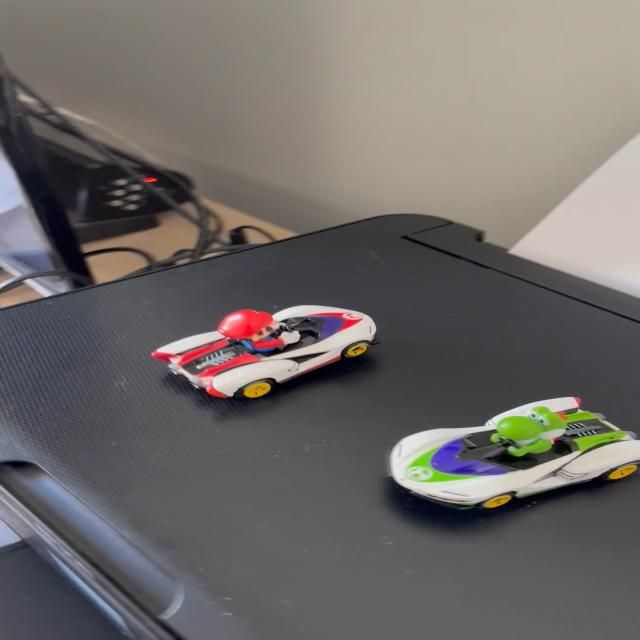mario: (135, 303, 400, 410)
yoshi: (376, 384, 640, 510)
